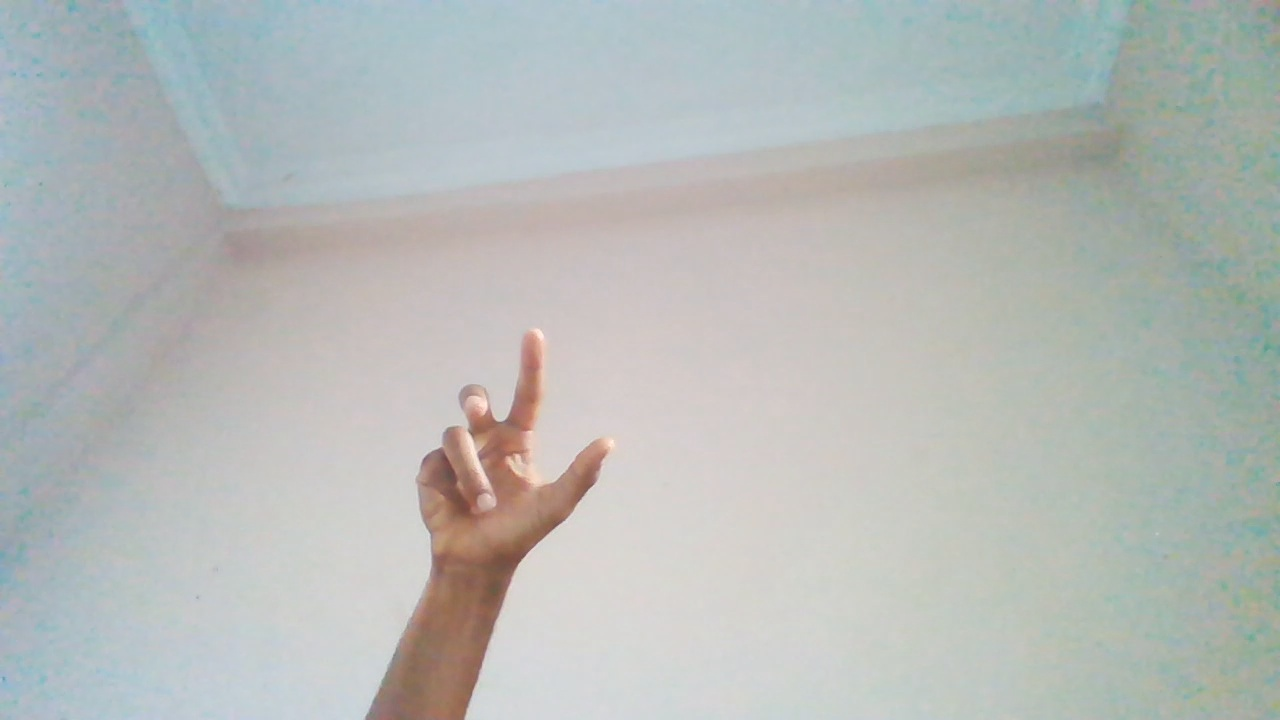hhe: (416, 327, 612, 663)
